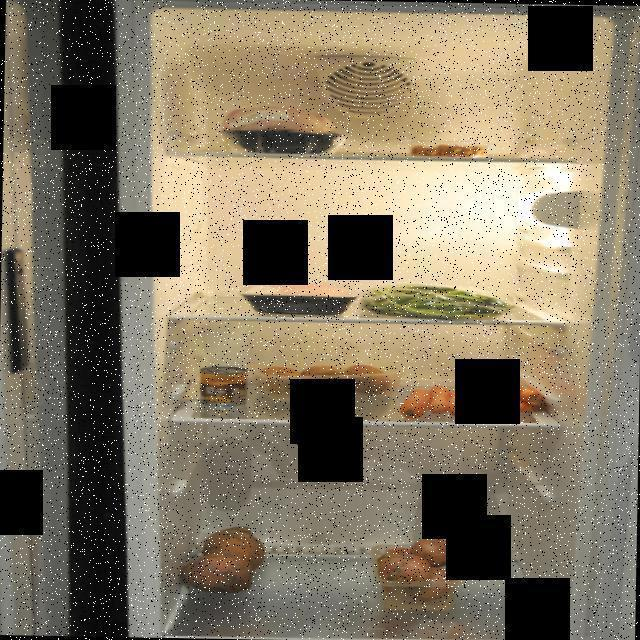carrot: (392, 375, 552, 424)
chicken: (216, 102, 351, 158)
corn: (198, 366, 249, 408)
green_beans: (358, 280, 518, 322)
ground_beef: (238, 280, 360, 316)
onion: (368, 534, 464, 611)
potato: (255, 359, 395, 402)
shrimp: (406, 144, 489, 156)
sweet_potato: (185, 518, 269, 600)
